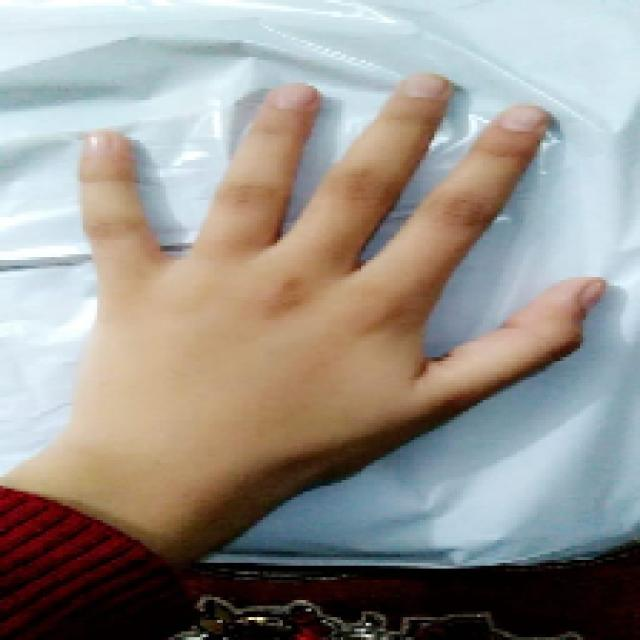Nail: (499, 106, 546, 132), (275, 83, 316, 109), (402, 74, 446, 97), (82, 131, 114, 157), (581, 280, 606, 308)
